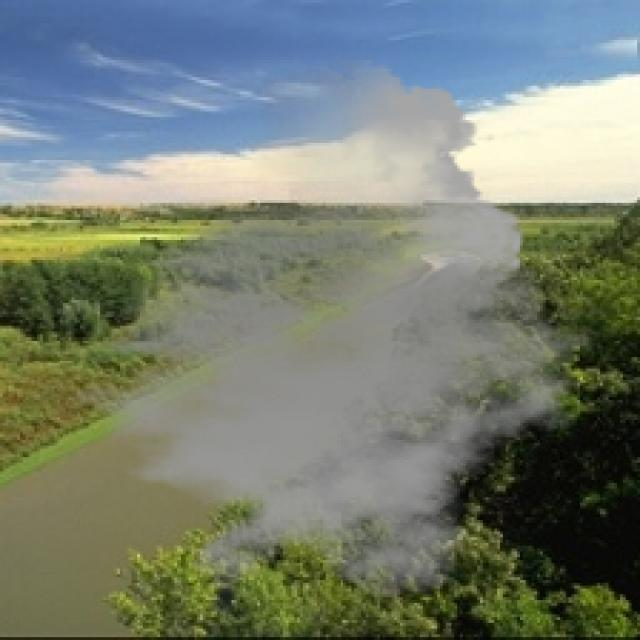Smoke: (39, 57, 594, 600)
